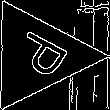P_SE: (2, 27, 73, 84)
